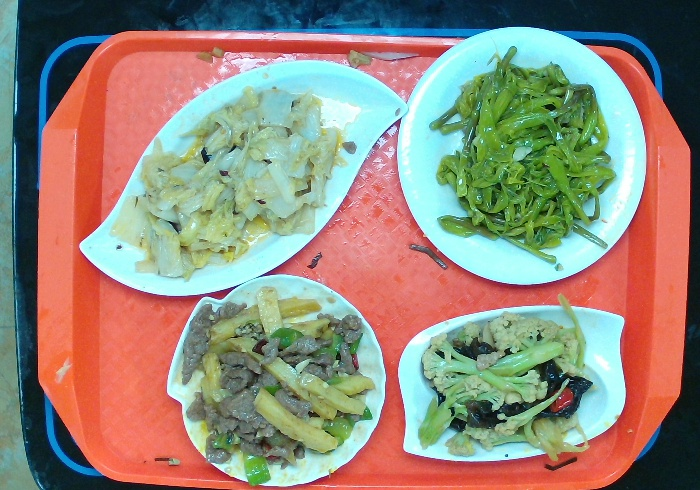RJxy-Bei_Ke_Wan: (164, 269, 388, 490)
RJxy-Jian_Jiao_Fang_Die: (393, 300, 631, 472)
RJxy-Jian_Jiao_Pan: (68, 46, 418, 305)
RJxy-Yuan_Pan: (393, 19, 658, 289)
